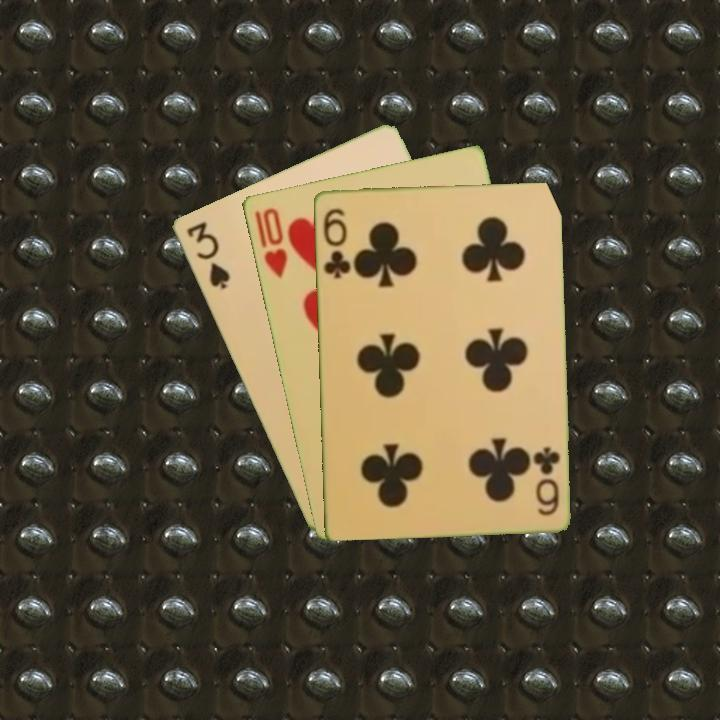10h: (250, 204, 290, 281)
3s: (182, 217, 232, 292)
6c: (319, 204, 353, 281), (530, 443, 563, 518)
